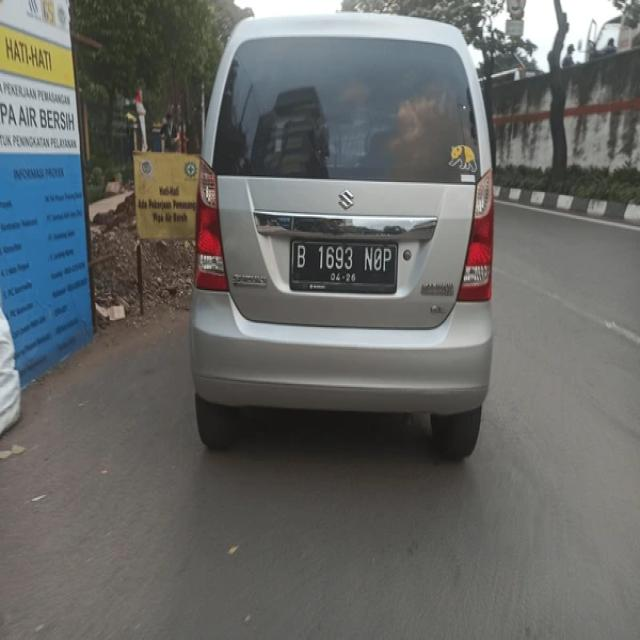suzuki: (335, 189, 355, 213)
